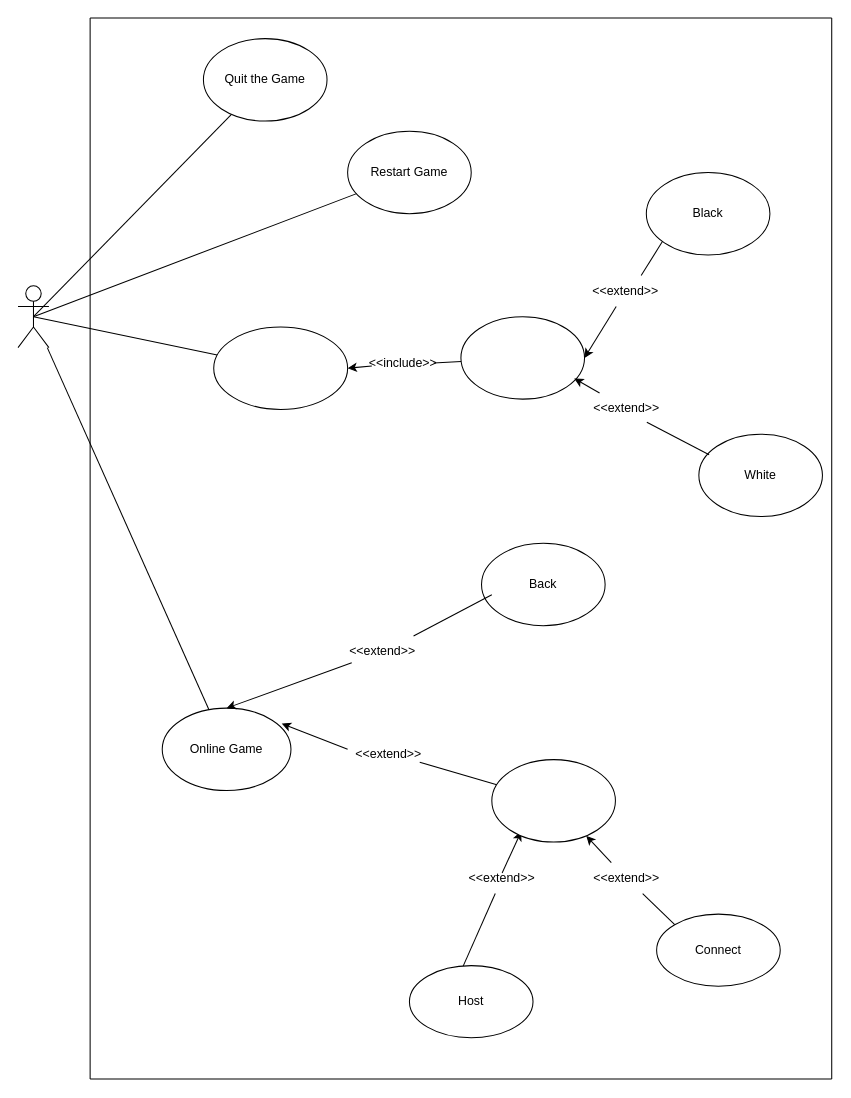
This 851x1098 diagram has some shape labels left out. The shapes that lost their labels are listed below. From the top down, each one's centre as x and y in pixels, then its label:
At point (33, 316): "User".
At point (280, 367): "Local Game".
At point (522, 357): "Choose side".
At point (553, 800): "Enter IP adress".
